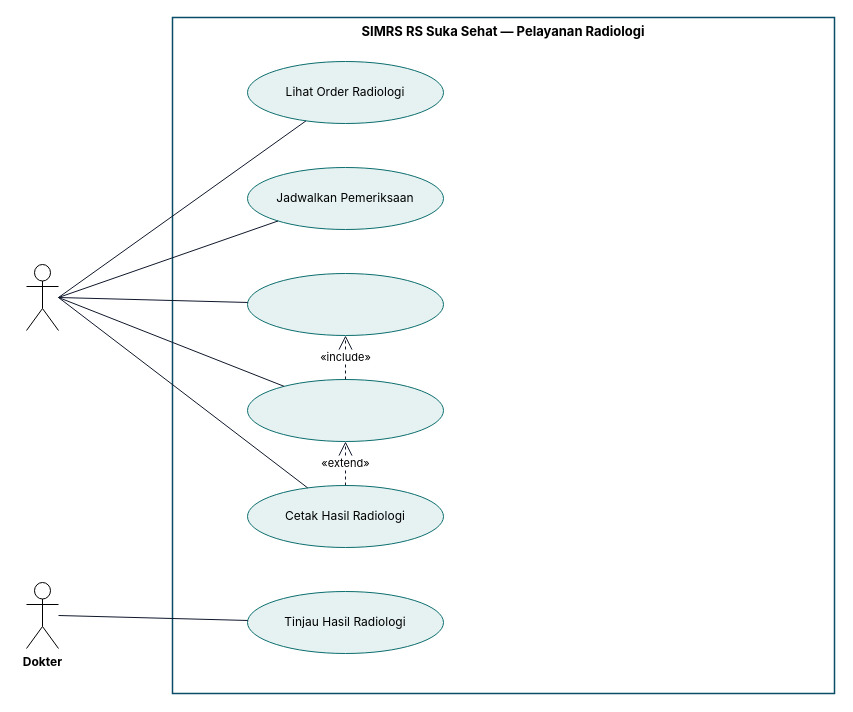
The diagram is 853 pixels wide and 712 high, and some of its shapes have lost their labels. The shapes that lost their labels are listed below. From the top down, each one's centre as x and y in pixels, then its label:
the point at 42,297: Radiolog
the point at 345,304: Unggah Gambar
the point at 345,410: Tulis Expertise
